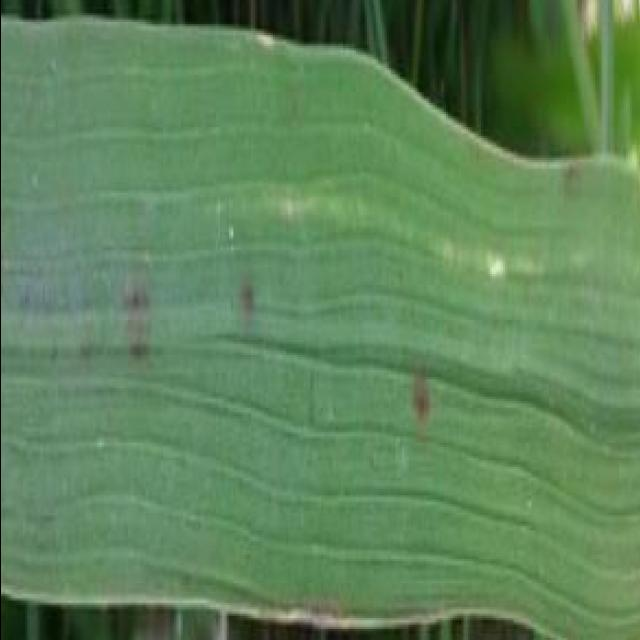Brown_Spot: (403, 362, 447, 432), (230, 280, 274, 338), (548, 158, 594, 208), (119, 331, 162, 379), (118, 280, 158, 324), (72, 335, 110, 375), (15, 280, 38, 324), (44, 340, 66, 370), (0, 276, 11, 306), (0, 243, 9, 270)
